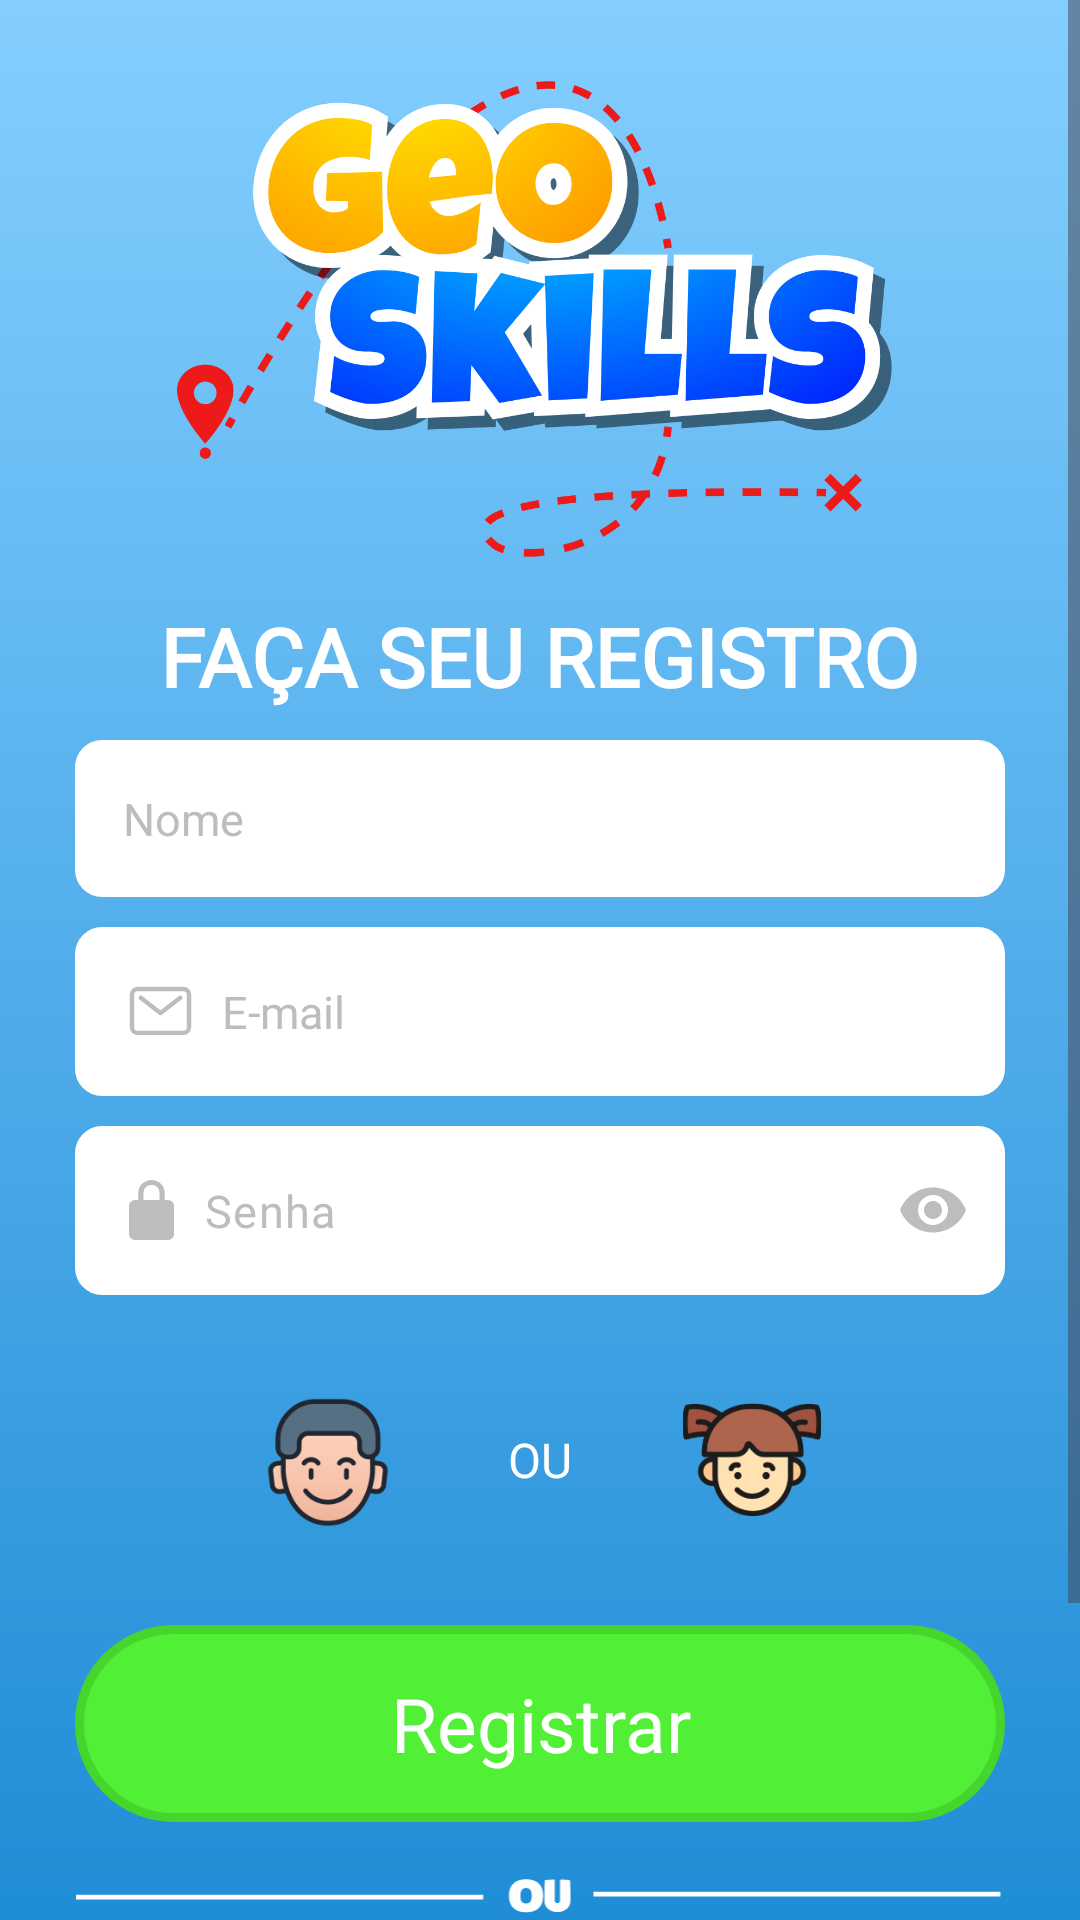

Icon bounding boxes for this 1080px x 1920px phone screenshot, format (x1, y1, x2, y2):
boy profile: (268, 1399, 388, 1526)
girl profile: (683, 1403, 821, 1516)
